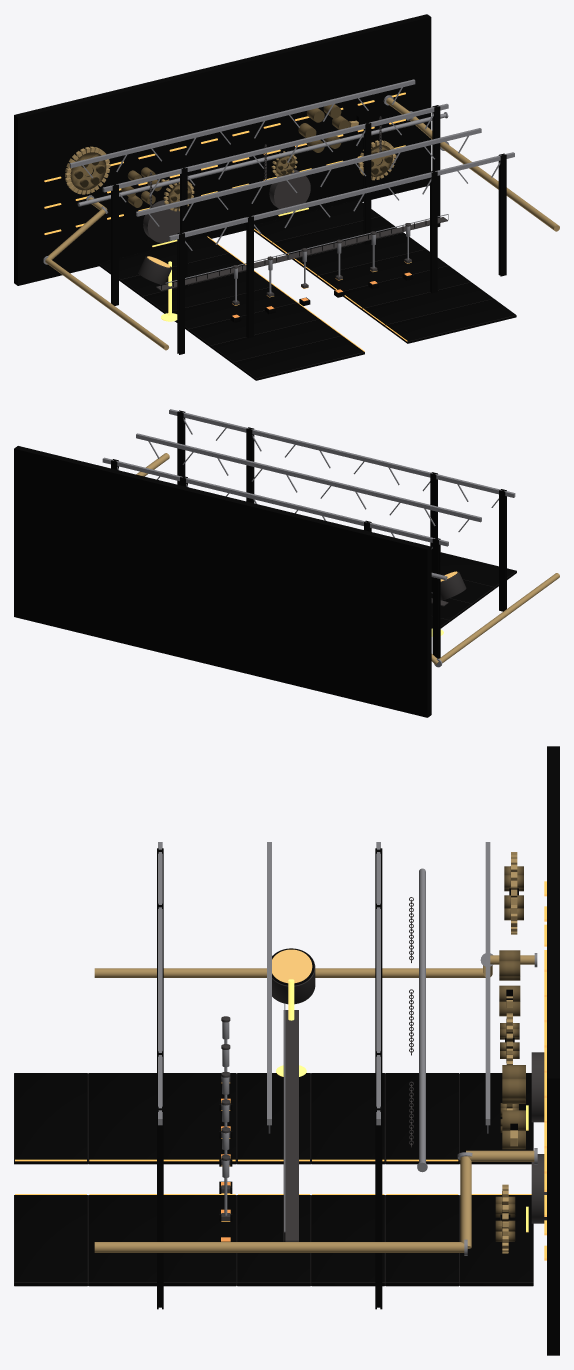
Rendered from foundry.glb.
3 renders of one model, top to bottom at view 1: azimuth 30°, elevation 25°; view 2: azimuth 150°, elevation 25°; view 3: azimuth 270°, elevation 25°, orthographic. The views are drawn at different scales.
Parts seen in each view (by area): view 1: back_wall, floor_L0, floor_R0, floor_L1, floor_R1, floor_R4, floor_R6, floor_L2, floor_R2, floor_R3, floor_L4, truss_240 (+26 smaller); view 2: back_wall, truss_140, truss_90, truss_190, floor_L0, column_-140_190, pipes_left, column_-140_90, floor_L1, column_80_90, column_-80_90, column_140_90 (+2 smaller); view 3: back_wall, floor_R0, floor_L0, floor_L1, floor_L4, floor_L5, pipes_right, floor_R5, floor_L2, floor_R2, floor_R1, floor_R4 (+22 smaller).
Boxes of the visible parts, box(x1,y1,x2,y2) form: back_wall: box(14, 14, 431, 285); floor_L0: box(233, 336, 364, 380); floor_R0: box(385, 299, 516, 343); floor_L1: box(211, 319, 341, 363); floor_R1: box(362, 282, 493, 326); floor_R4: box(295, 233, 425, 277); floor_R6: box(254, 199, 380, 244); floor_L2: box(188, 303, 319, 347); floor_R2: box(343, 266, 470, 310); floor_R3: box(317, 249, 448, 291); floor_L4: box(143, 271, 274, 313); truss_240: box(69, 79, 415, 168); back_wall: box(14, 446, 431, 717); truss_140: box(136, 433, 481, 522); truss_90: box(169, 409, 515, 497); truss_190: box(102, 457, 448, 546); floor_L0: box(440, 552, 516, 589); column_-140_190: box(432, 537, 440, 658); pipes_left: box(431, 573, 559, 667); column_-140_90: box(499, 489, 506, 611); floor_L1: box(441, 574, 494, 605); column_80_90: box(246, 427, 254, 503); column_-80_90: box(430, 472, 437, 594); column_140_90: box(177, 410, 185, 485); back_wall: box(547, 746, 559, 1355); floor_R0: box(14, 1195, 88, 1286); floor_L0: box(14, 1073, 88, 1164); floor_L1: box(88, 1073, 156, 1164); floor_L4: box(311, 1073, 385, 1164); floor_L5: box(385, 1073, 459, 1164); pipes_right: box(94, 1148, 537, 1255); floor_R5: box(385, 1195, 459, 1286); floor_L2: box(163, 1073, 236, 1164); floor_R2: box(163, 1195, 236, 1286); floor_R1: box(88, 1195, 156, 1286); floor_R4: box(311, 1195, 385, 1286).
Bounding box in the file's own units: 360 × 140 × 250.
